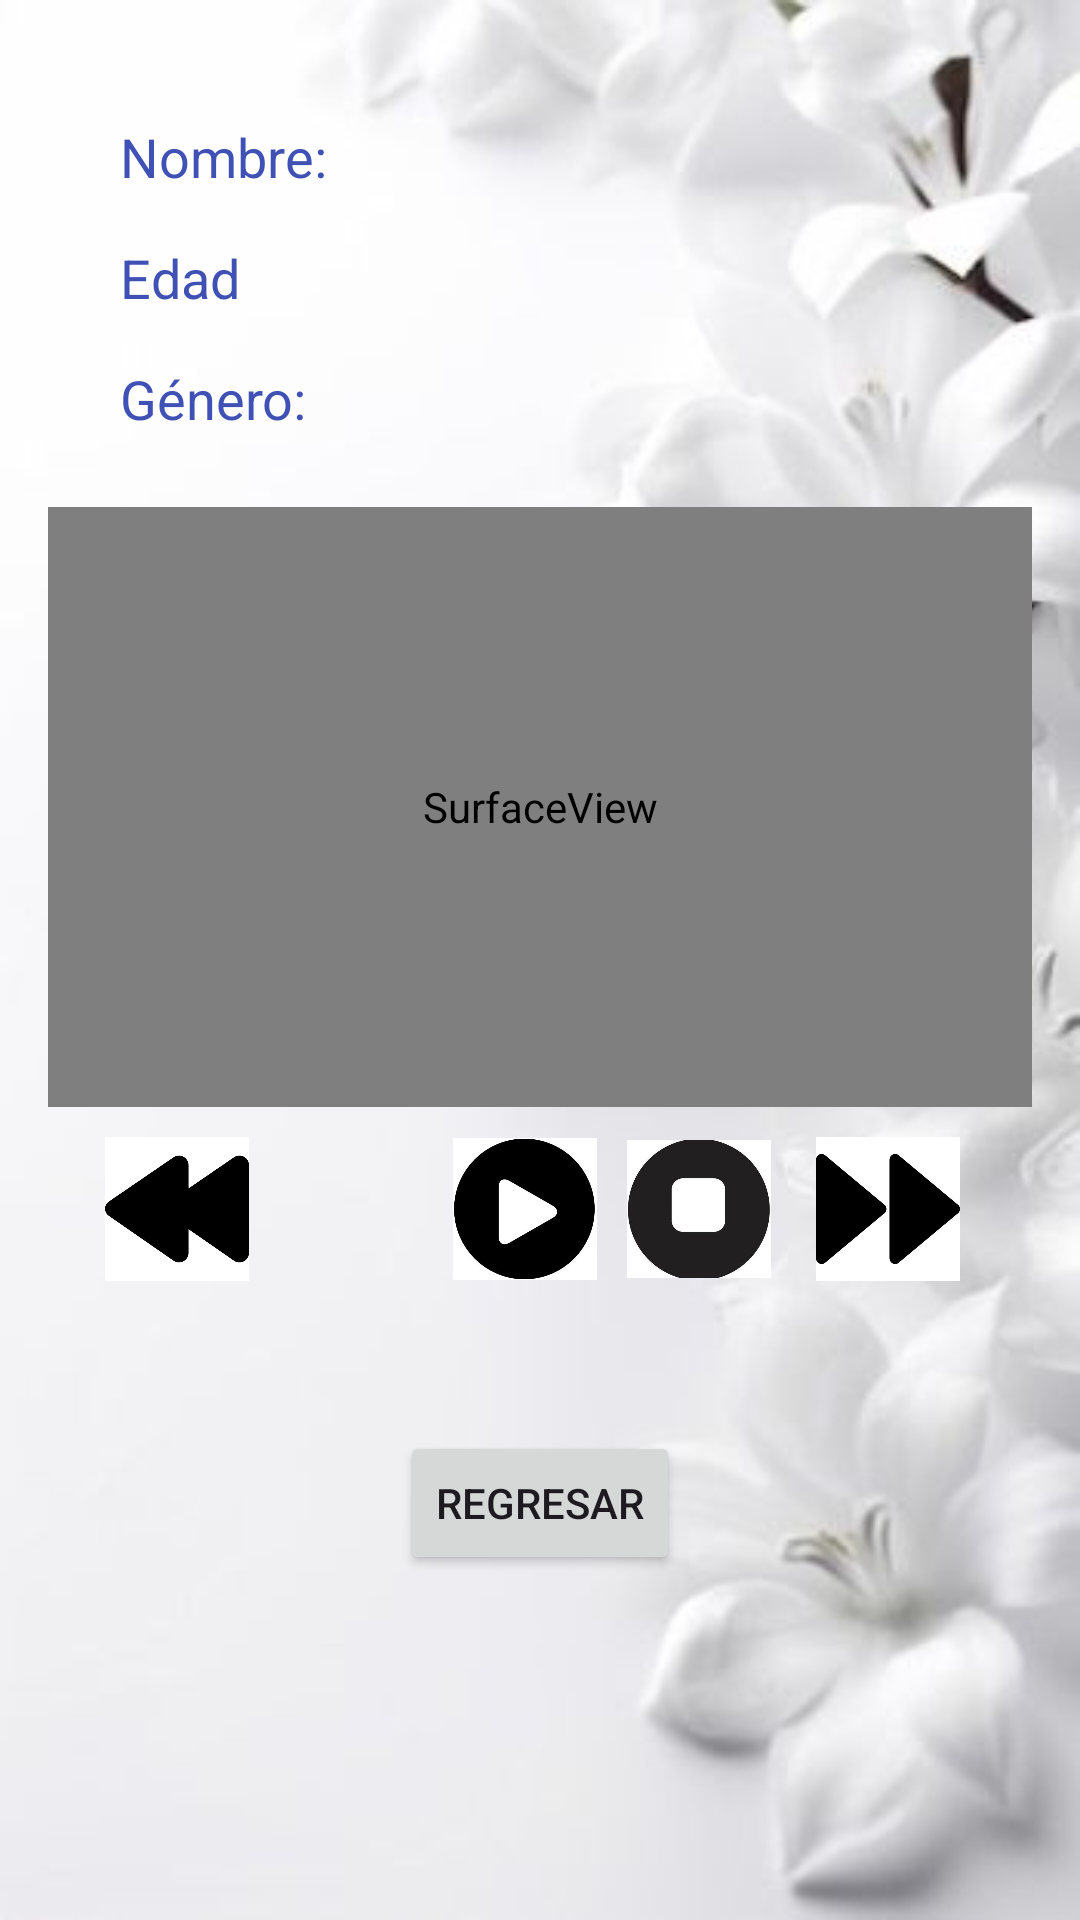

Icons on this 1080x1920 Android screen, each with the point to tap as point (x, y):
ADELANTAR: point (888, 1209)
DETENER: point (699, 1209)
PLAY: point (524, 1209)
RETROCEDER: point (177, 1209)
